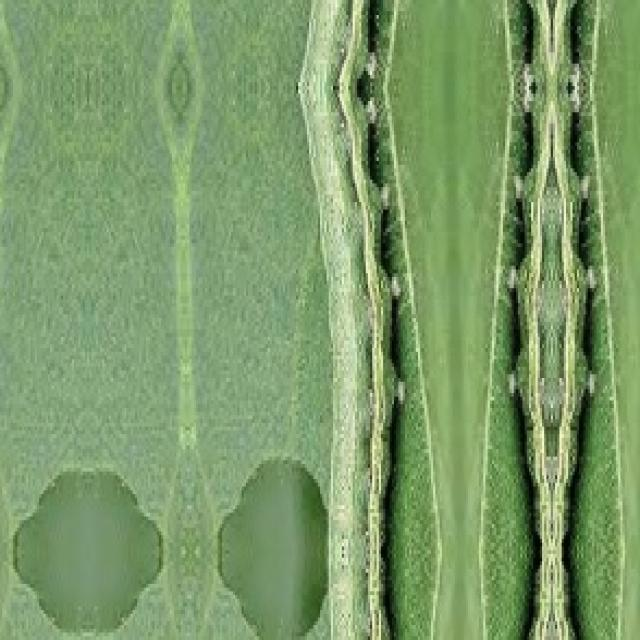armyworm: (296, 0, 406, 640), (520, 0, 602, 640)
